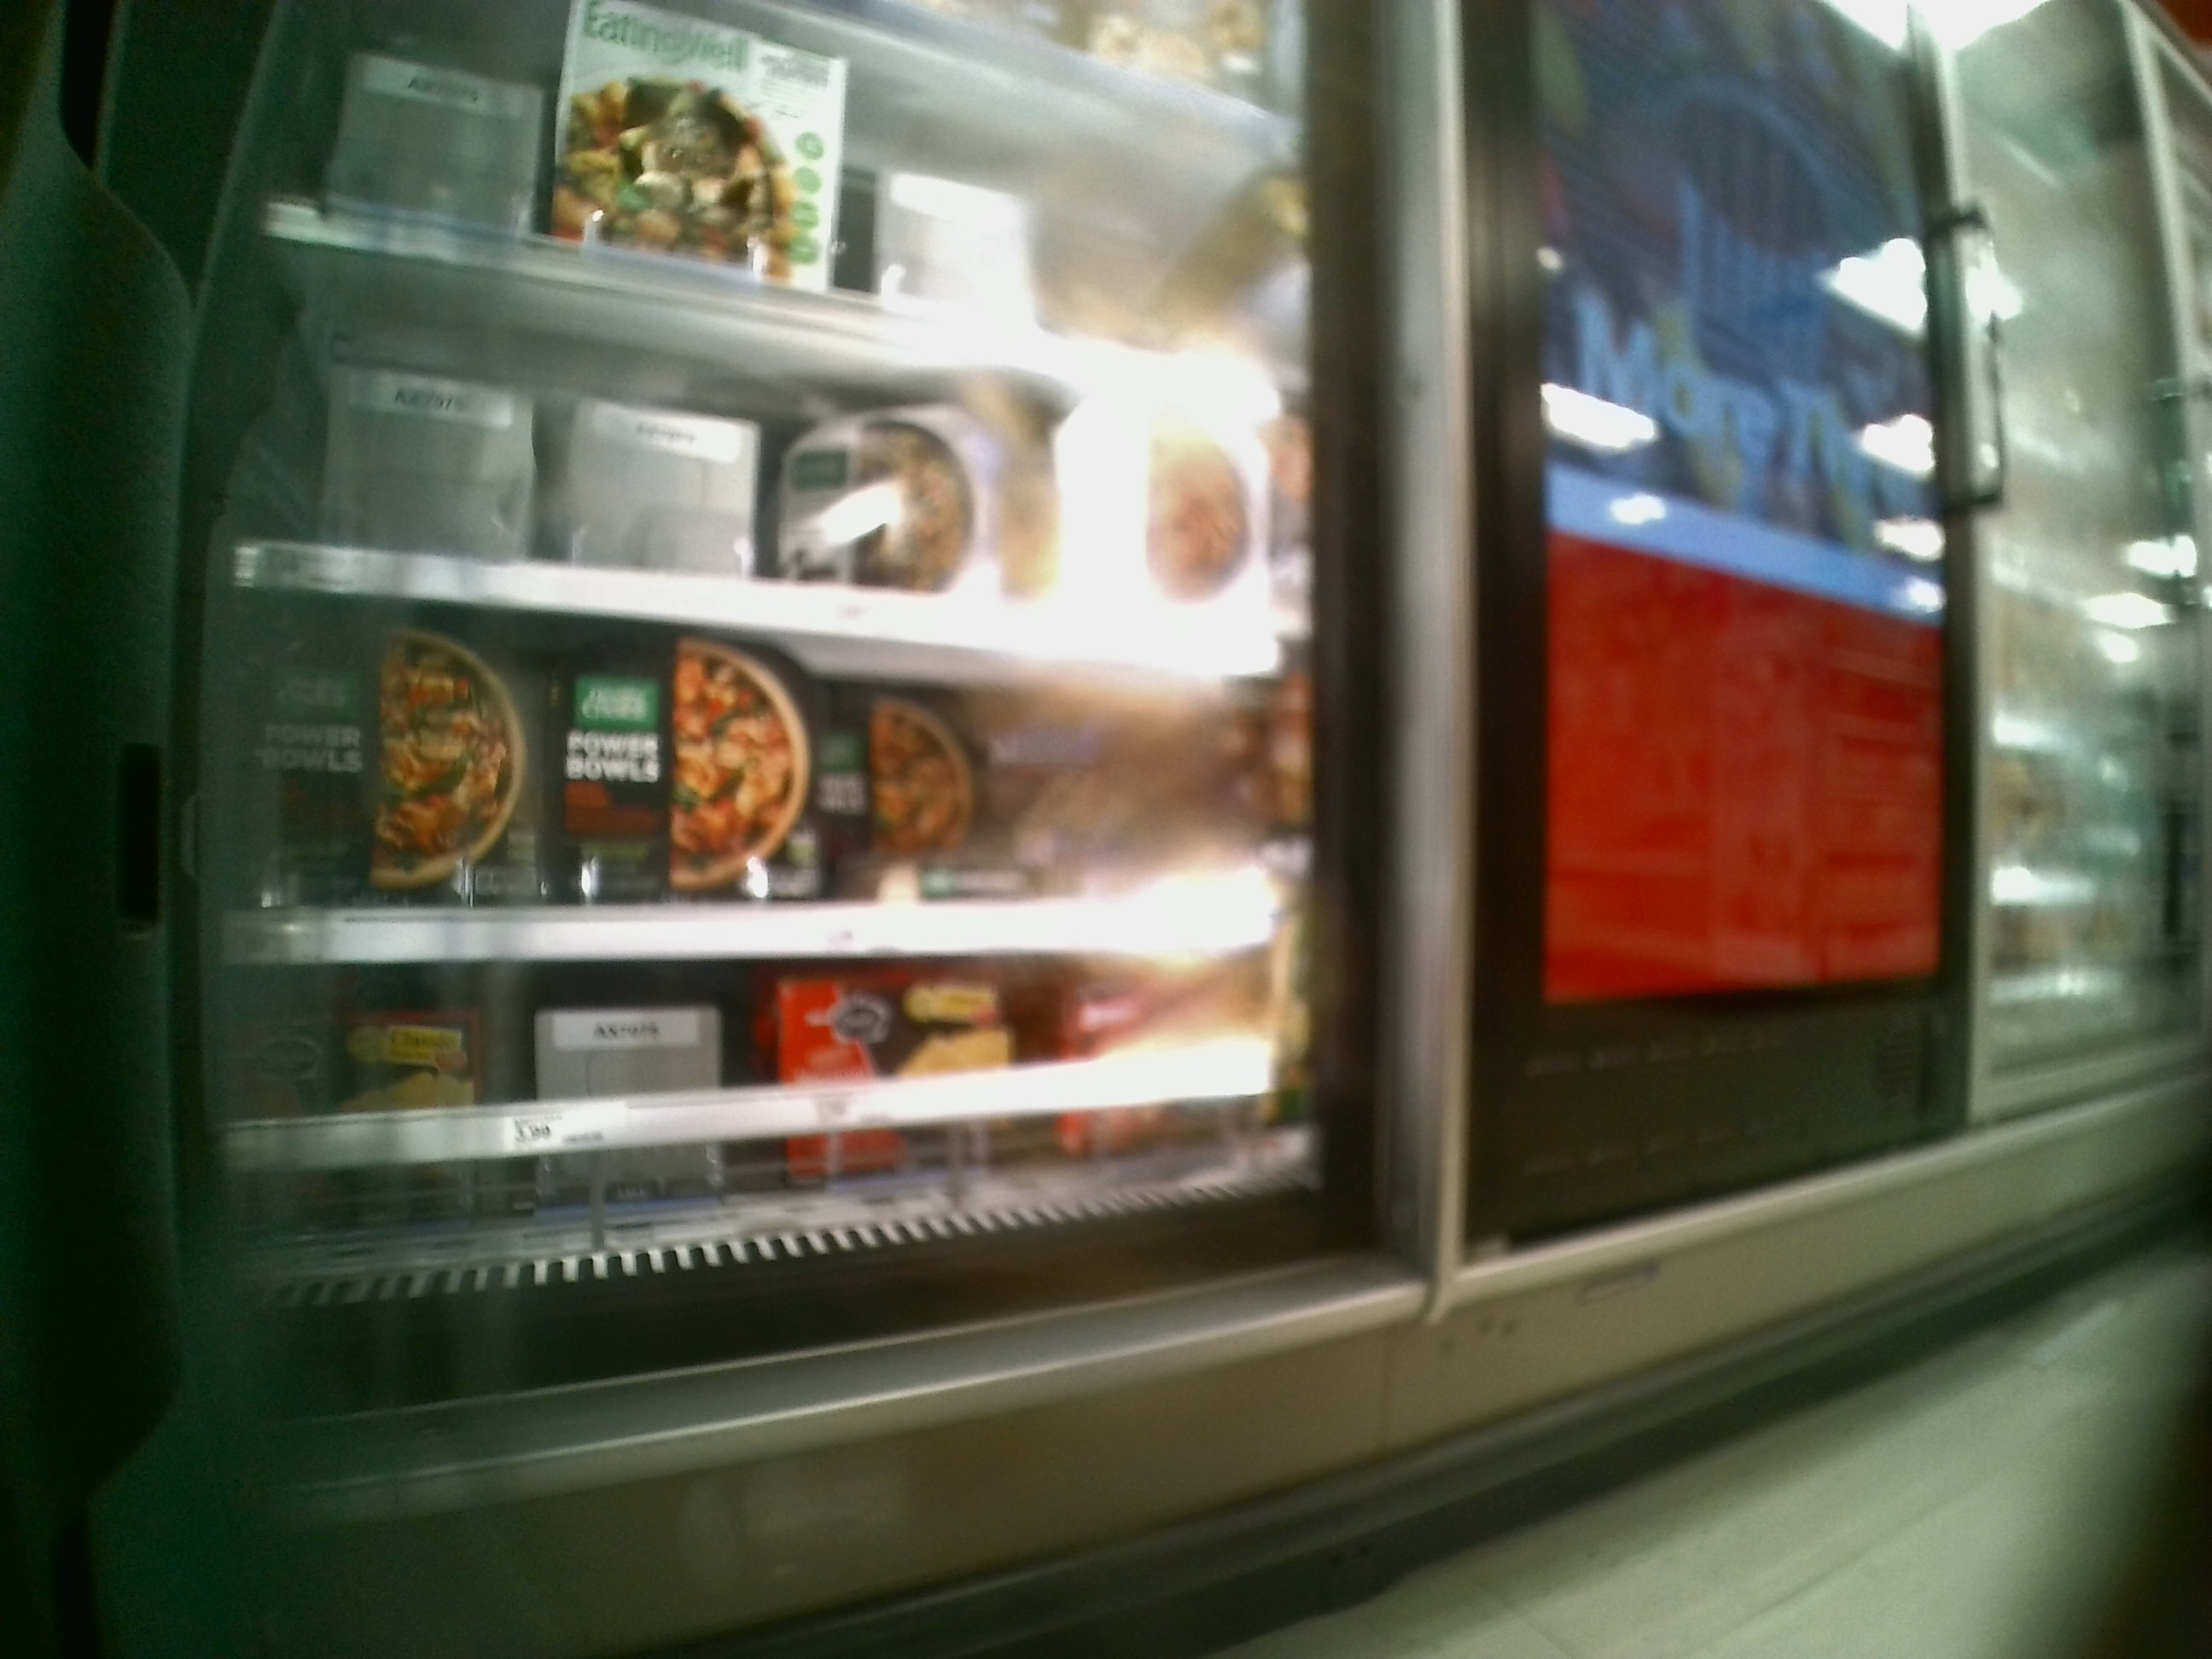shelf: (221, 580, 1303, 962)
